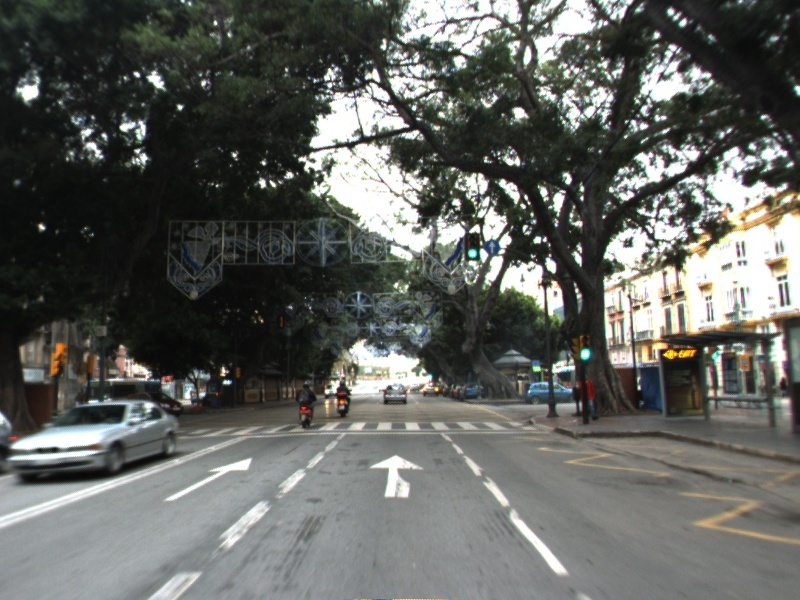STRAIGHT: (162, 456, 255, 503), (368, 453, 426, 499)
